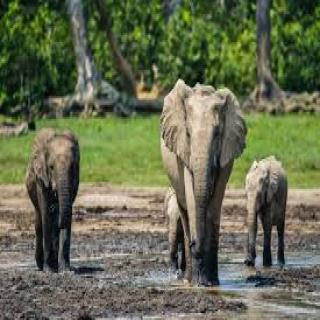Elephant: (159, 77, 249, 302), (23, 120, 79, 274), (242, 154, 296, 273)
